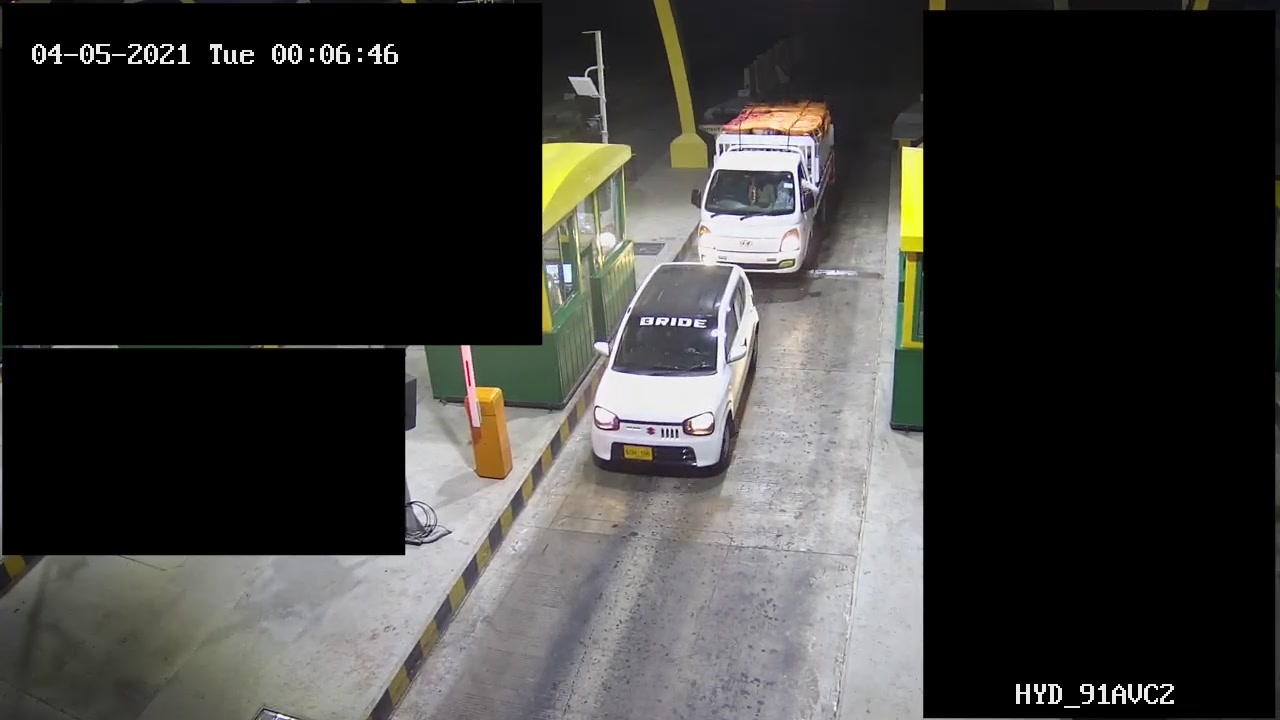F1: (576, 259, 770, 476)
